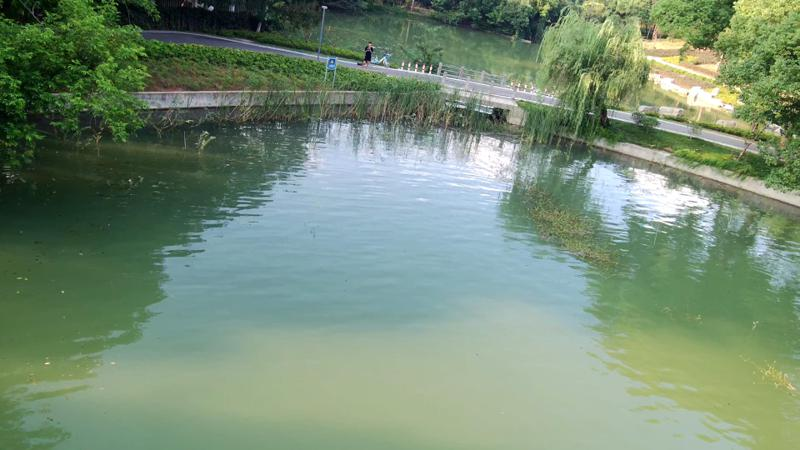passerby: (360, 40, 376, 71)
